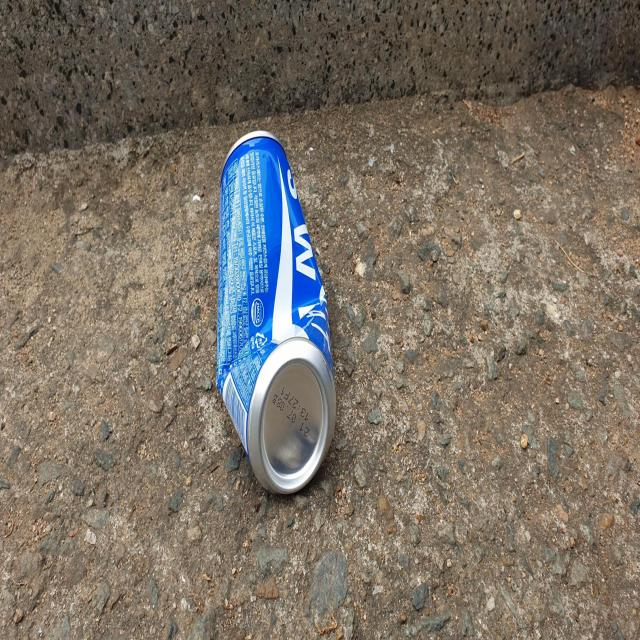can: (216, 129, 336, 493)
